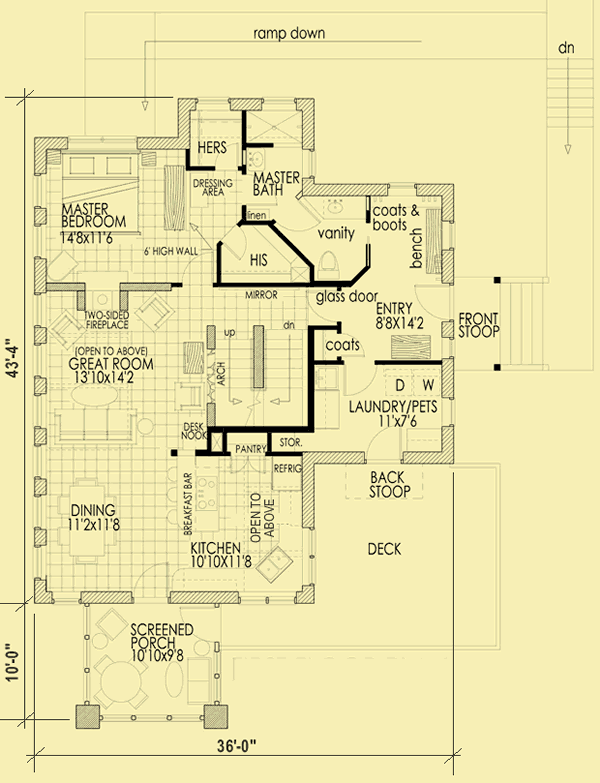bed: (61, 149, 146, 237)
dining table: (52, 468, 124, 569)
door: (358, 416, 408, 468), (123, 558, 175, 606), (271, 192, 323, 239), (408, 278, 454, 322), (339, 355, 380, 399), (177, 247, 222, 287), (306, 282, 345, 327), (221, 448, 270, 480), (218, 220, 253, 261)
large sink: (310, 247, 351, 279)
large sofa: (50, 405, 144, 453), (180, 655, 214, 717)
round table: (86, 651, 152, 711)
small sink: (321, 191, 364, 224), (242, 142, 266, 175)
small sofa: (132, 288, 176, 335), (47, 309, 85, 353), (171, 377, 208, 411), (94, 606, 126, 645)
stairs: (209, 320, 312, 435)
windows: (194, 92, 299, 116), (31, 167, 52, 270), (31, 488, 52, 584), (232, 583, 301, 609), (65, 130, 146, 151), (298, 520, 318, 593)
